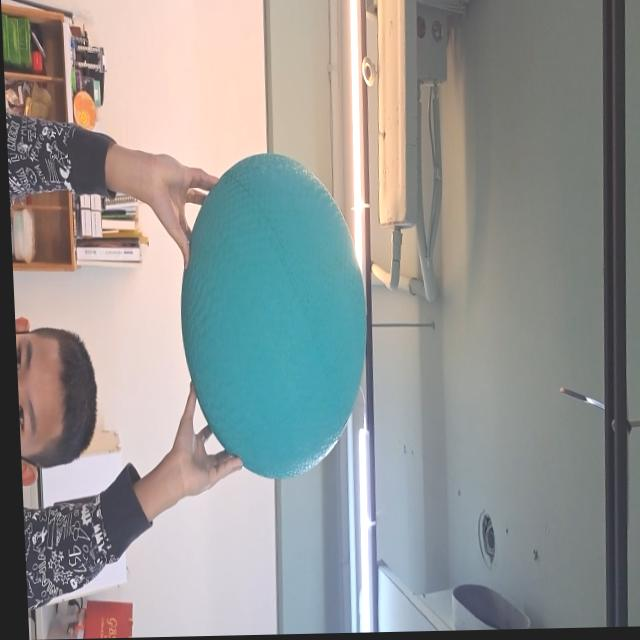ALGAE: (172, 153, 374, 481)
